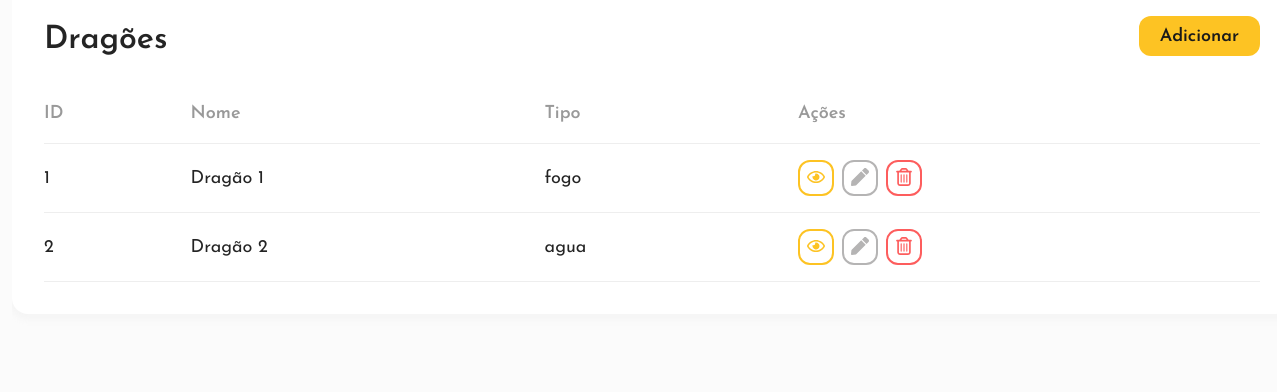
Dragons › redirect to edit form when edit button is clicked
Click the button named "Editar" in the row of "Dragão 1".
click(860, 178)  # box [842,160,878,196]
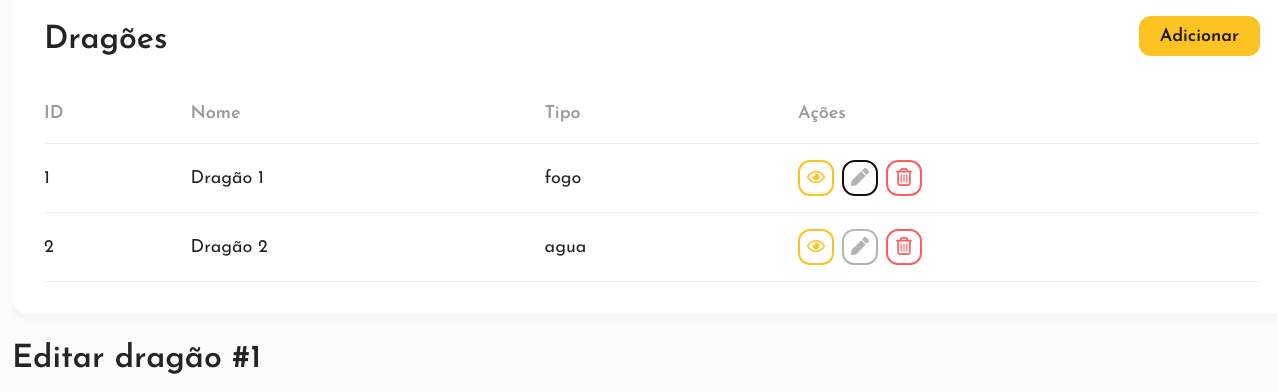
Now the heading "Editar dragão #1" is shown, box [12,343,261,375]
